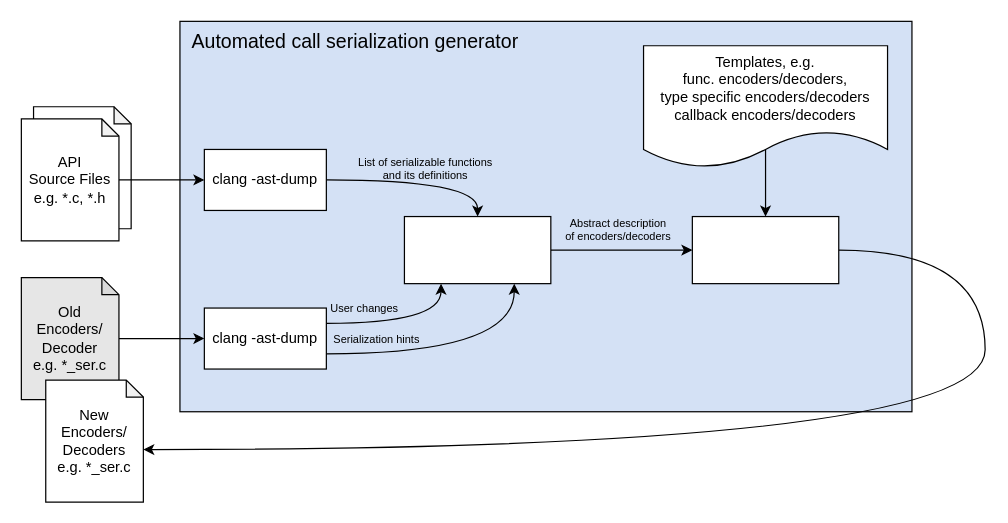
This 1008x523 diagram has some shape labels left out. The centre of each missing label's shape, as x and y in pixels:
"GENERATOR" belongs at pixel 765 249.
"PARSER" belongs at pixel 477 249.
